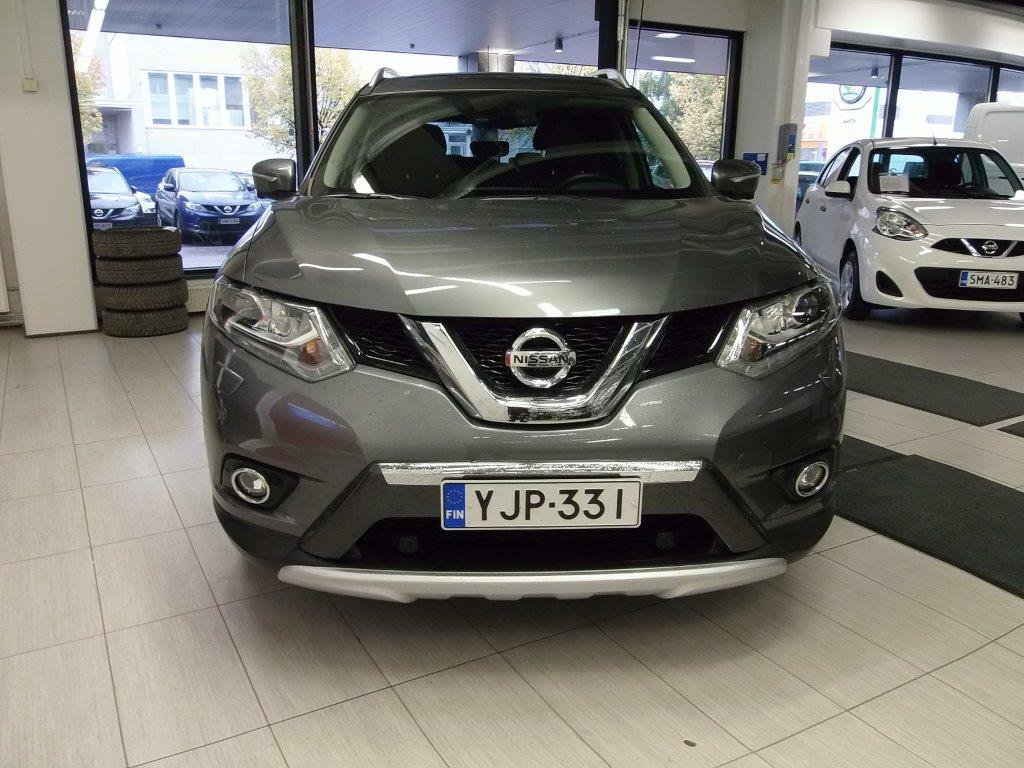license: (437, 481, 640, 532)
